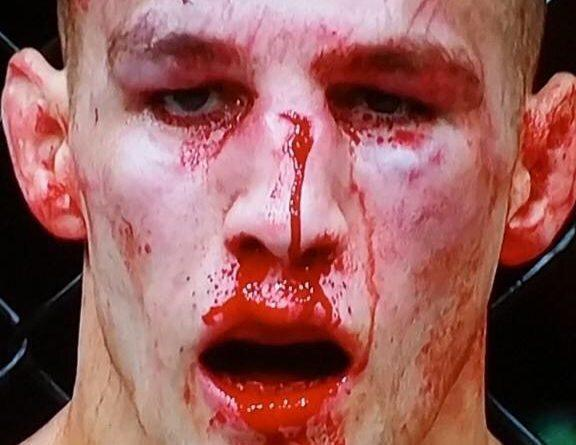Fire: (109, 8, 502, 444), (4, 53, 85, 238), (497, 74, 576, 262)
